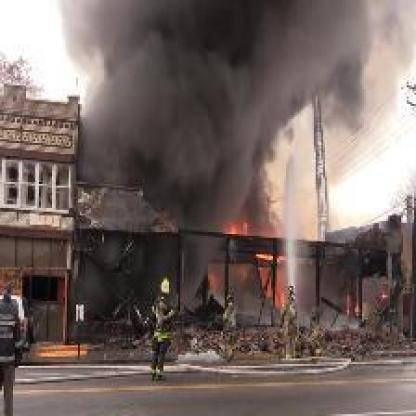fire: (206, 212, 290, 314)
smoke: (55, 0, 331, 329)
